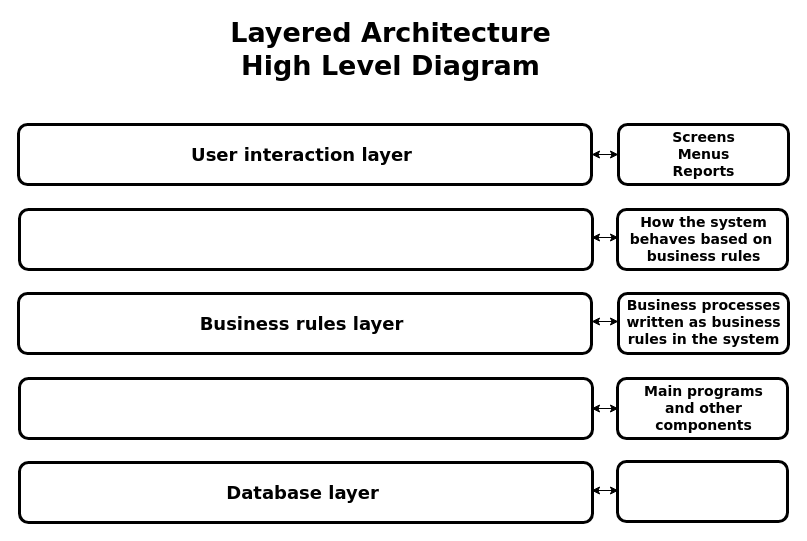
This 807x541 diagram has some shape labels left out. Each missing label, with the box of its shape:
Application core layer: (18, 376, 594, 440)
Functionality layer: (18, 208, 594, 270)
Tables, indexes and search engine: (616, 460, 788, 522)
